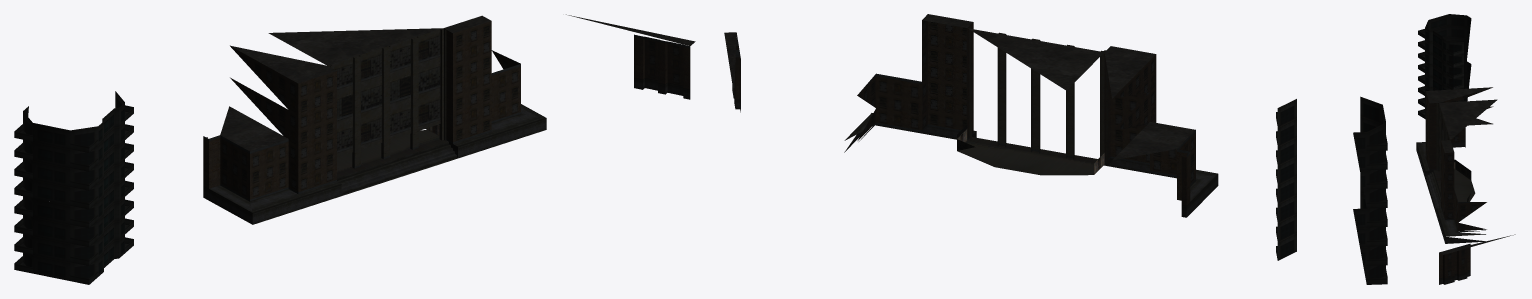
Rendered from cell_6_3.gltf.
3 views of the same model, side by side, from view 1: azimuth 30°, elevation 25°; view 2: azimuth 150°, elevation 25°; view 3: azimuth 270°, elevation 25° (orthographic). The views are drawn at different scales.
Visible parts, largest first — view 1: cell_6_3; view 2: cell_6_3; view 3: cell_6_3.
Part boxes in pixels (<box>): cell_6_3: <box>14,14,695,284</box>; cell_6_3: <box>724,14,1387,284</box>; cell_6_3: <box>1416,14,1515,284</box>.
Size of the model in its own units: 255 by 55.09 by 55.37.
Materials: 9 (9 with a texture image).
